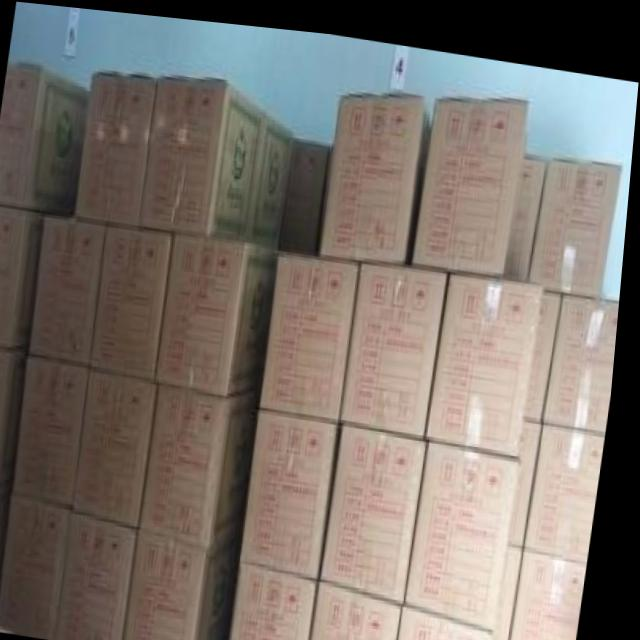box: (414, 430, 529, 621), (432, 258, 547, 445), (159, 227, 284, 390), (416, 86, 531, 263), (152, 377, 268, 547), (345, 250, 455, 429), (327, 417, 437, 594), (143, 74, 262, 234), (322, 87, 433, 250), (265, 241, 367, 414), (250, 403, 346, 574), (135, 518, 253, 640), (0, 61, 92, 214), (96, 218, 177, 377), (84, 363, 165, 520), (531, 148, 624, 282), (78, 69, 158, 222), (33, 210, 112, 363), (21, 352, 96, 505), (532, 409, 612, 548), (66, 505, 148, 640), (547, 279, 624, 418), (8, 494, 82, 638), (522, 536, 595, 640), (240, 554, 327, 640), (0, 206, 49, 349), (249, 106, 297, 238), (320, 574, 414, 640), (284, 131, 334, 241), (0, 344, 35, 489), (509, 142, 548, 269), (531, 279, 567, 409), (406, 594, 506, 640), (517, 407, 549, 536), (504, 532, 534, 640), (0, 483, 22, 606)
